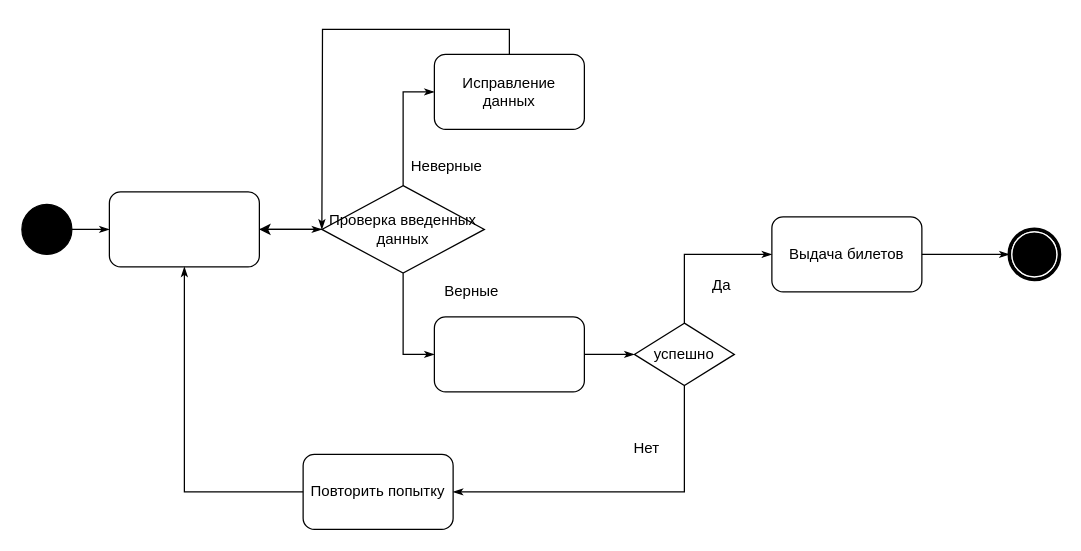
Image size: 1081x551. Some labels were removed from this diagram. The centre of each missing label's shape, as x and y in pixels:
Оплатить покупку билетов: (183,229)
Списание средств: (508,354)
